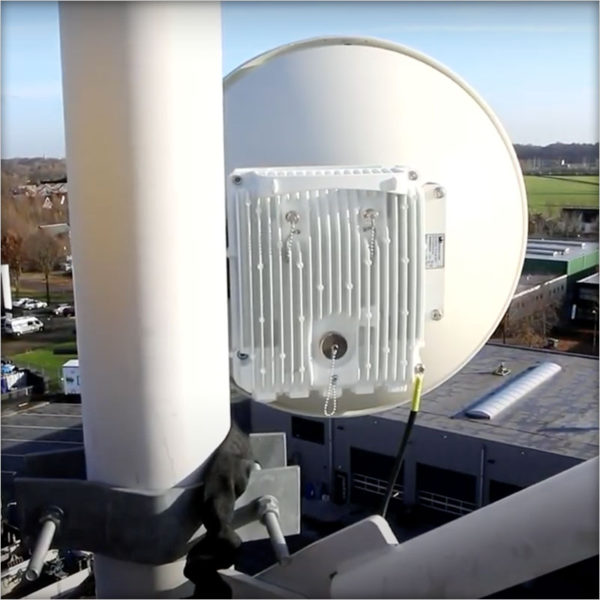ba: (174, 20, 533, 415)
